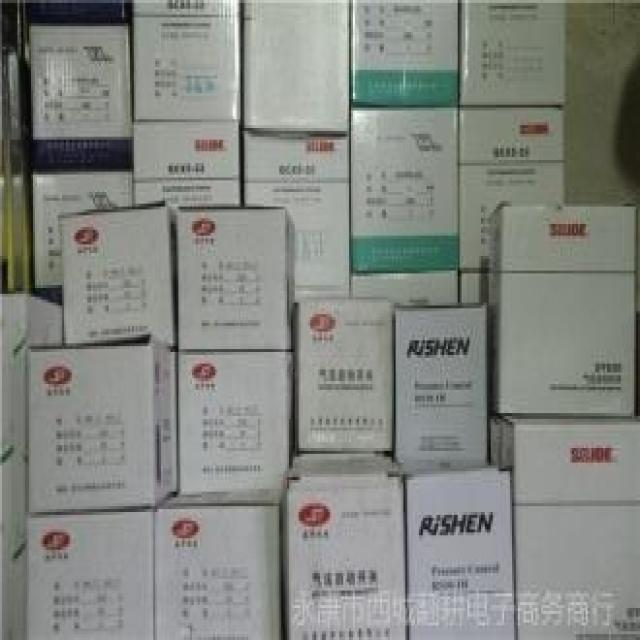box: (489, 419, 640, 640), (485, 207, 638, 425), (27, 335, 180, 512), (283, 451, 407, 640), (349, 108, 462, 311), (460, 108, 566, 303), (403, 463, 516, 640), (242, 131, 351, 303), (153, 495, 283, 637), (171, 207, 297, 352), (178, 352, 295, 503), (60, 204, 178, 349), (27, 509, 155, 640), (394, 303, 487, 477), (293, 300, 394, 460), (29, 23, 134, 175), (242, 0, 353, 134), (33, 175, 134, 308), (130, 0, 240, 122), (460, 0, 568, 108), (353, 0, 460, 108), (134, 122, 242, 221), (23, 0, 128, 58)
